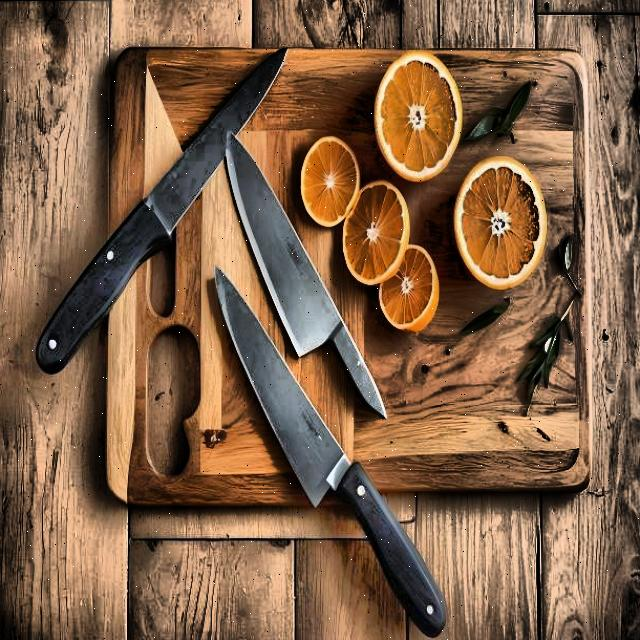knife: (212, 274, 447, 636), (35, 46, 292, 375), (222, 130, 392, 421)
